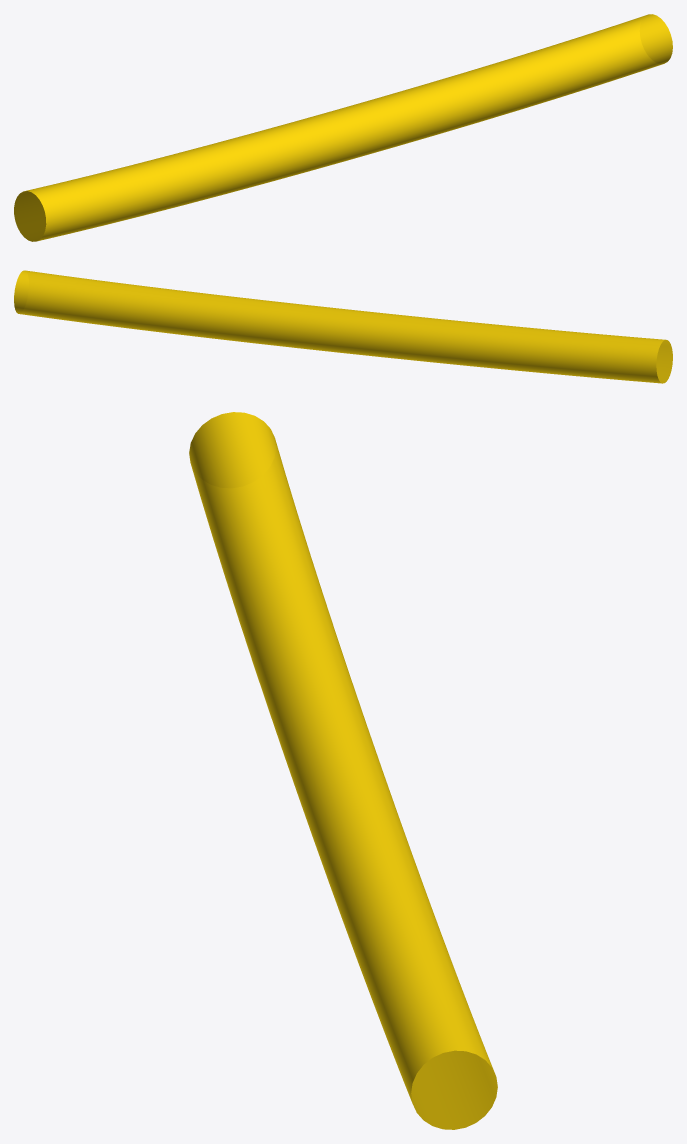
File: Event_421278790_track_40.fbx
The picture shows the model from 3 angles, top to bottom: view 1: azimuth 30°, elevation 25°; view 2: azimuth 150°, elevation 25°; view 3: azimuth 270°, elevation 25°; orthographic projection. The views are drawn at different scales.
Visible parts, largest first — view 1: Model; view 2: Model; view 3: Model.
Part boxes in pixels (bbox=[...]): Model: bbox=[14, 14, 672, 241]; Model: bbox=[14, 270, 672, 383]; Model: bbox=[189, 412, 497, 1129].
Bounding box in the file's own units: 0.6229 × 0.0732 × 0.1402.
